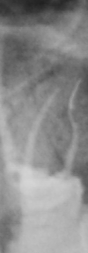fracture: (66, 76, 86, 112)
